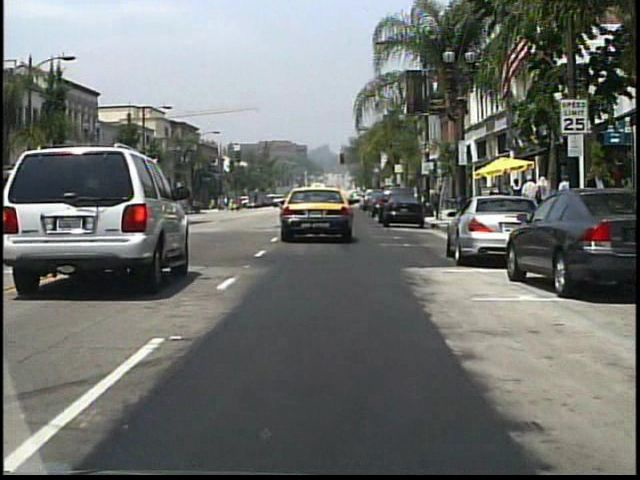person: (585, 164, 612, 239), (521, 174, 541, 225), (536, 175, 554, 221), (558, 174, 573, 217), (509, 178, 524, 219), (253, 192, 261, 208)
